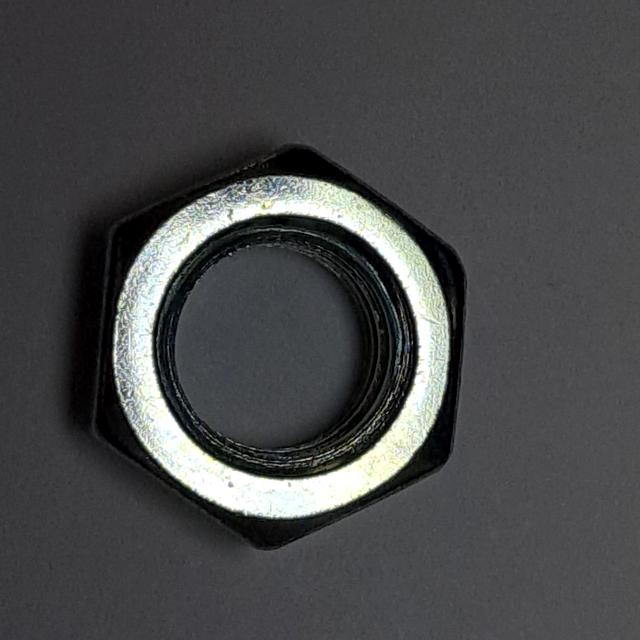Excellent: (72, 115, 483, 565)
